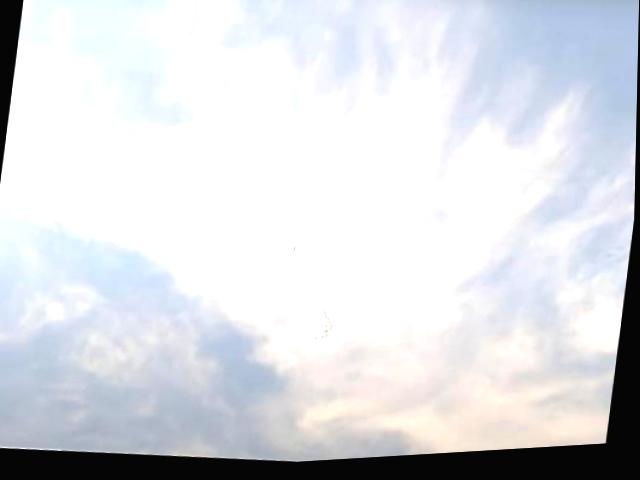iha: (294, 248, 299, 257)
